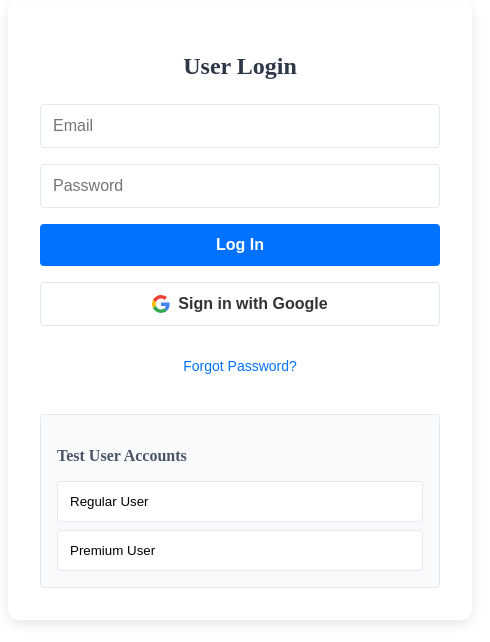
Test: Login Component › handles using test account
The width and height of the screenshot is (490, 642).
Find and click a test account button
What coordinates should you click on to do the following:
click the button "Regular User"
I would click on:
 (109, 501)
Its box is [57,481,423,522].
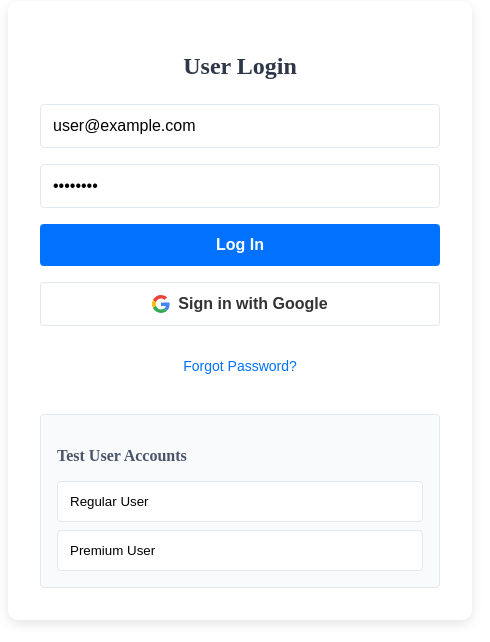
Expected: the field with test id "email-input" holds "user@example.com", [40,104,440,148]
Expected: the password field with test id "password-input" holds "User123!", [40,164,440,208]
